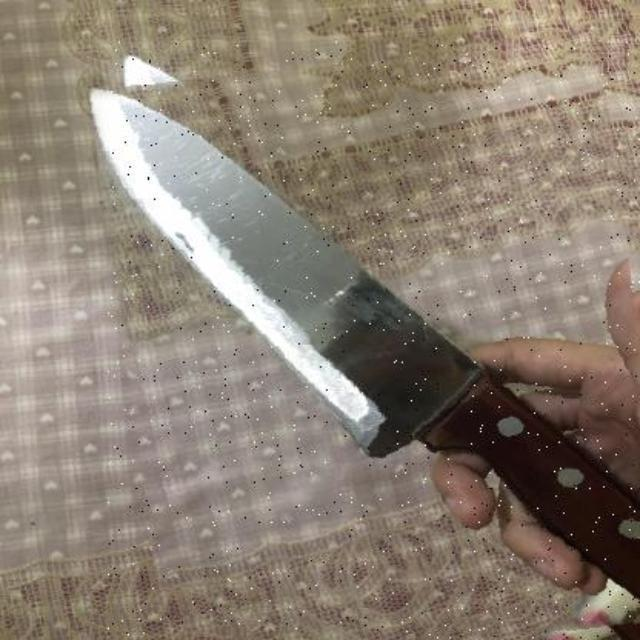Knife: (106, 42, 640, 640)
